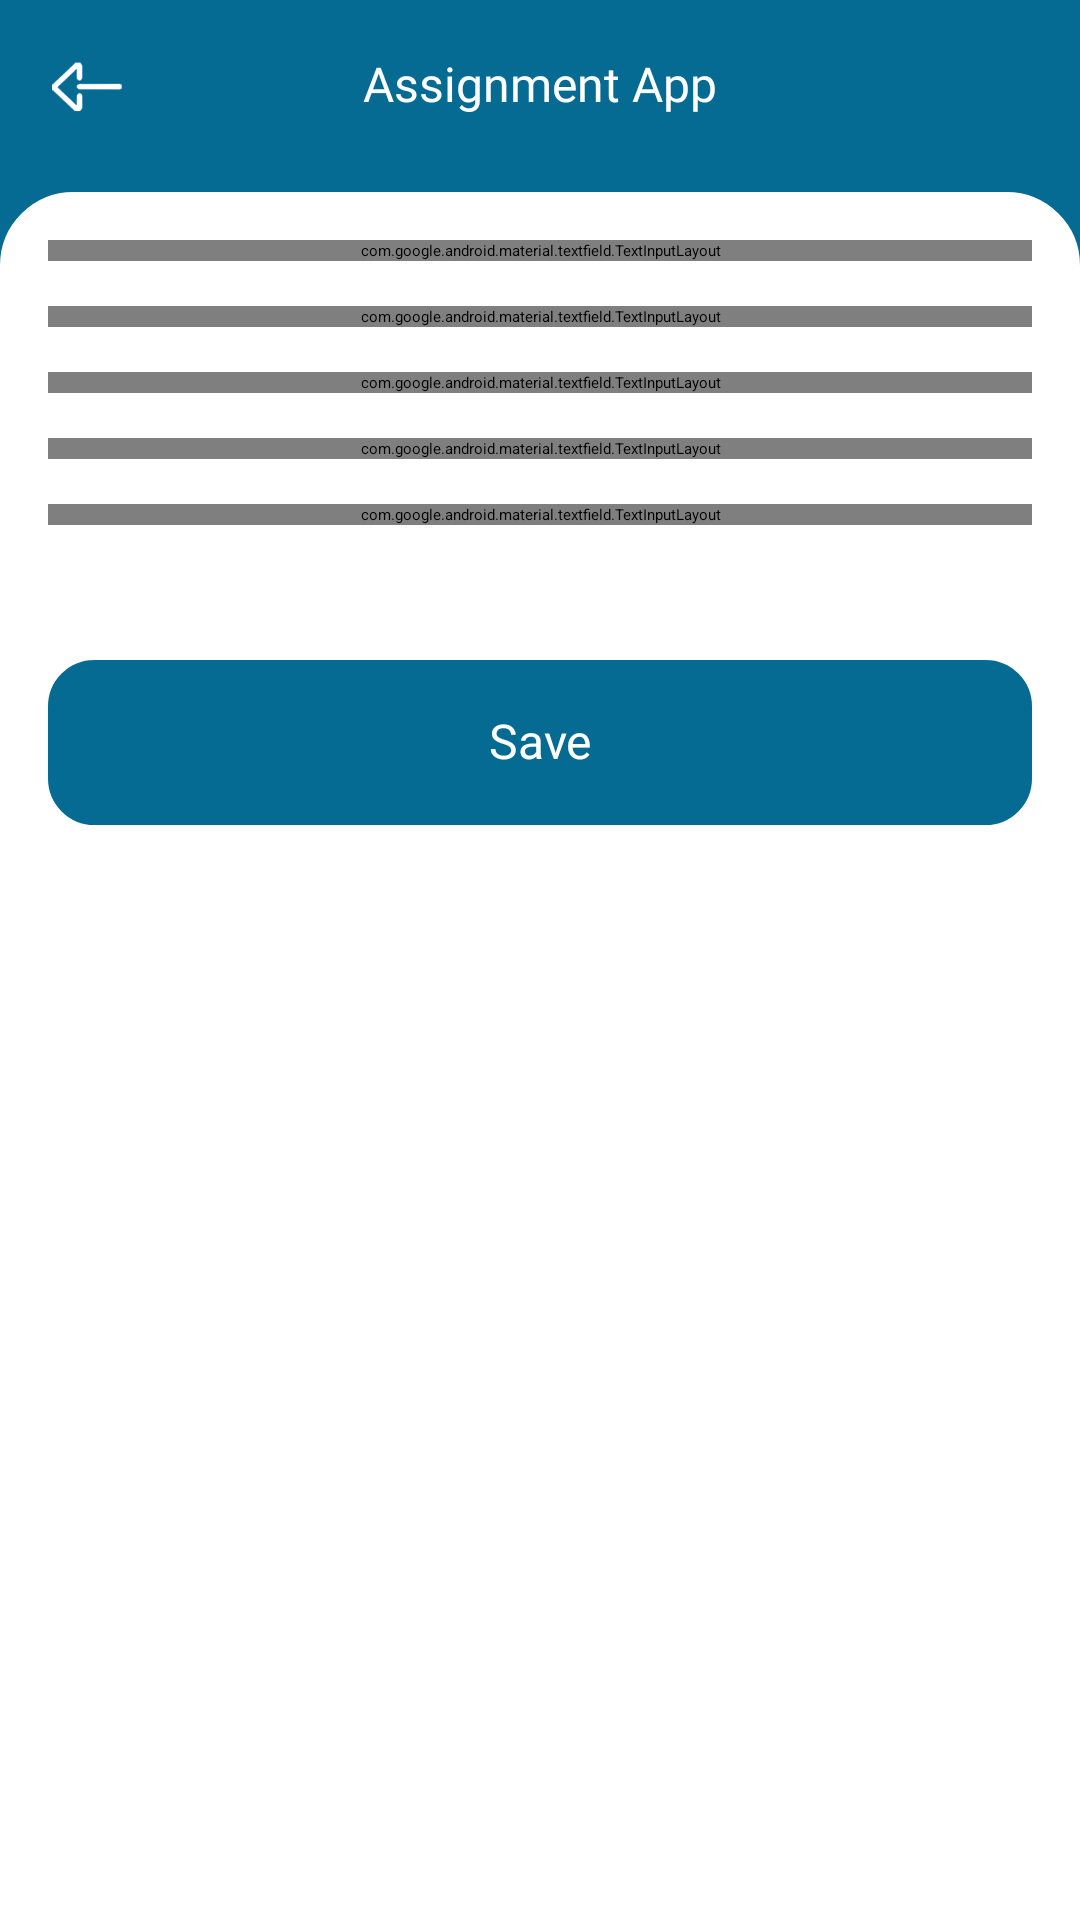

Named icons in this screenshot (1080x1920) and their centers, (x=x, y=y):
left: (x=87, y=86)
